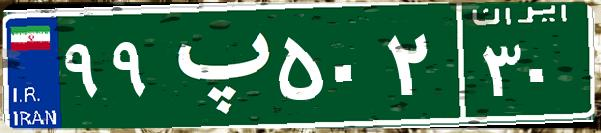0: (330, 28, 385, 110), (525, 38, 570, 115)
2: (385, 28, 445, 110)
3: (475, 38, 525, 113)
5: (273, 28, 330, 110)
9: (57, 26, 110, 107), (110, 28, 158, 105)
پ: (158, 15, 273, 115)
